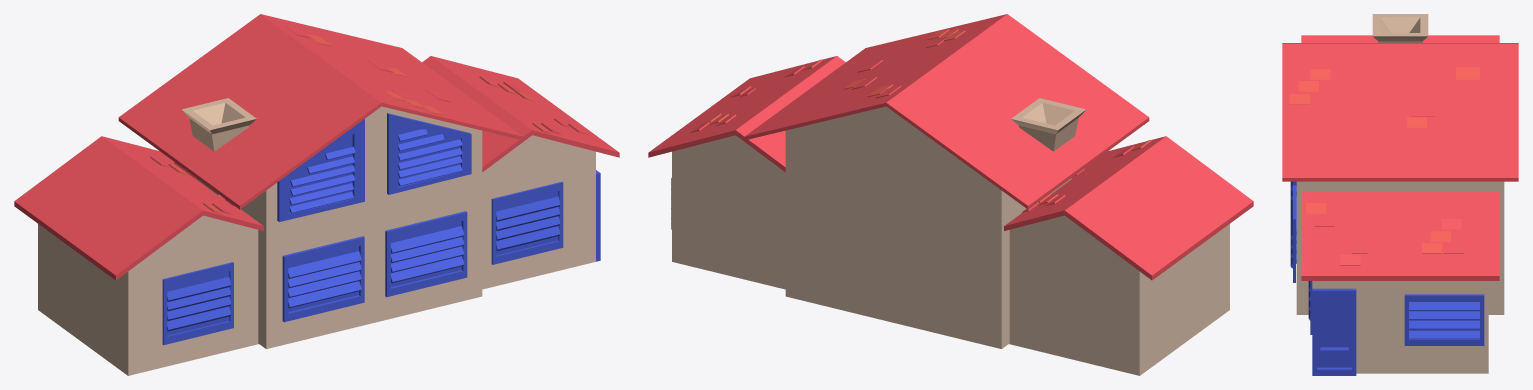
File: house_type_7.obj
3 views of the same model, side by side, from view 1: azimuth 30°, elevation 25°; view 2: azimuth 150°, elevation 25°; view 3: azimuth 270°, elevation 25° (orthographic). The views are drawn at different scales.
Visible parts, largest first — view 1: house_type_7; view 2: house_type_7; view 3: house_type_7.
Boxes of the visible parts, x1,y1,x2,y2 form: house_type_7: (14, 14, 619, 375); house_type_7: (648, 14, 1253, 375); house_type_7: (1282, 14, 1518, 375).
Size of the model in its own units: 7.26 by 3.12 by 3.02.
